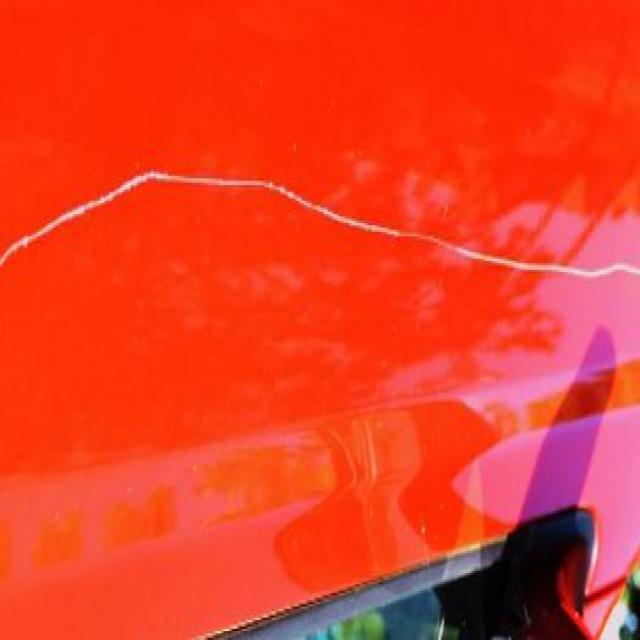scratch: (5, 162, 640, 292)
